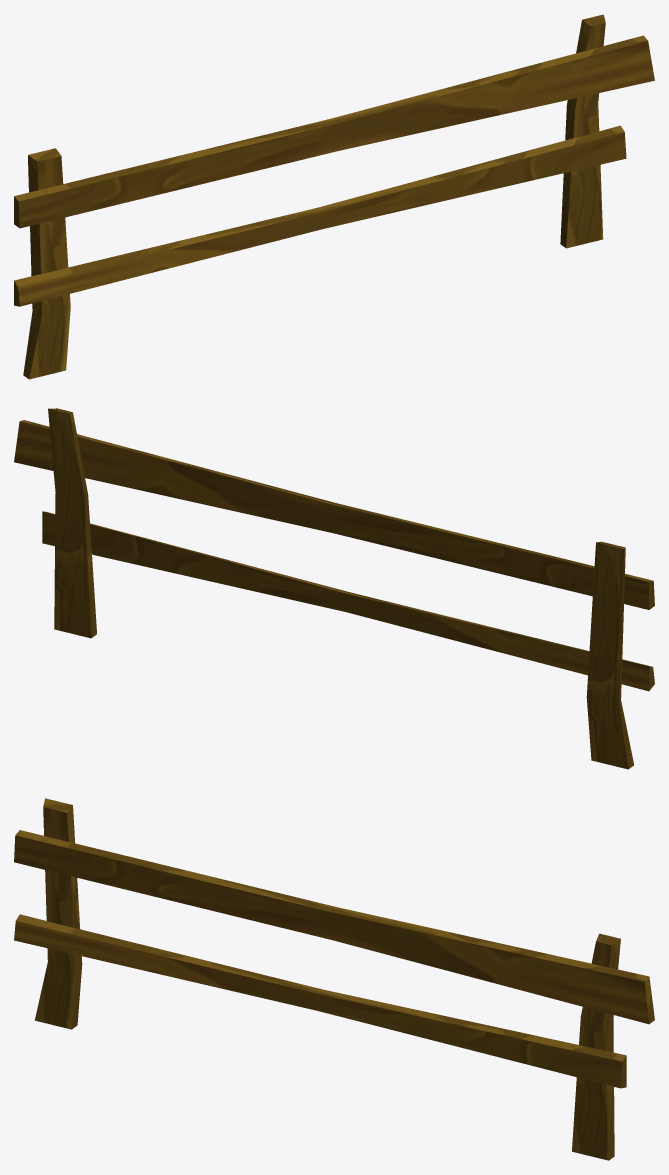
File: 1_Valla_Oscura.fbx
3 views of the same model, one above another, from view 1: azimuth 30°, elevation 25°; view 2: azimuth 150°, elevation 25°; view 3: azimuth 330°, elevation 25° (orthographic).
Visible parts, largest first — view 1: V_Valla1_Oscuro; view 2: V_Valla1_Oscuro; view 3: V_Valla1_Oscuro.
Boxes of the visible parts, x1=… form: V_Valla1_Oscuro: x1=14, y1=14, x2=654, y2=379; V_Valla1_Oscuro: x1=14, y1=408, x2=654, y2=769; V_Valla1_Oscuro: x1=14, y1=798, x2=654, y2=1160.
Size of the model in its own units: 172 by 56.77 by 5.42.
